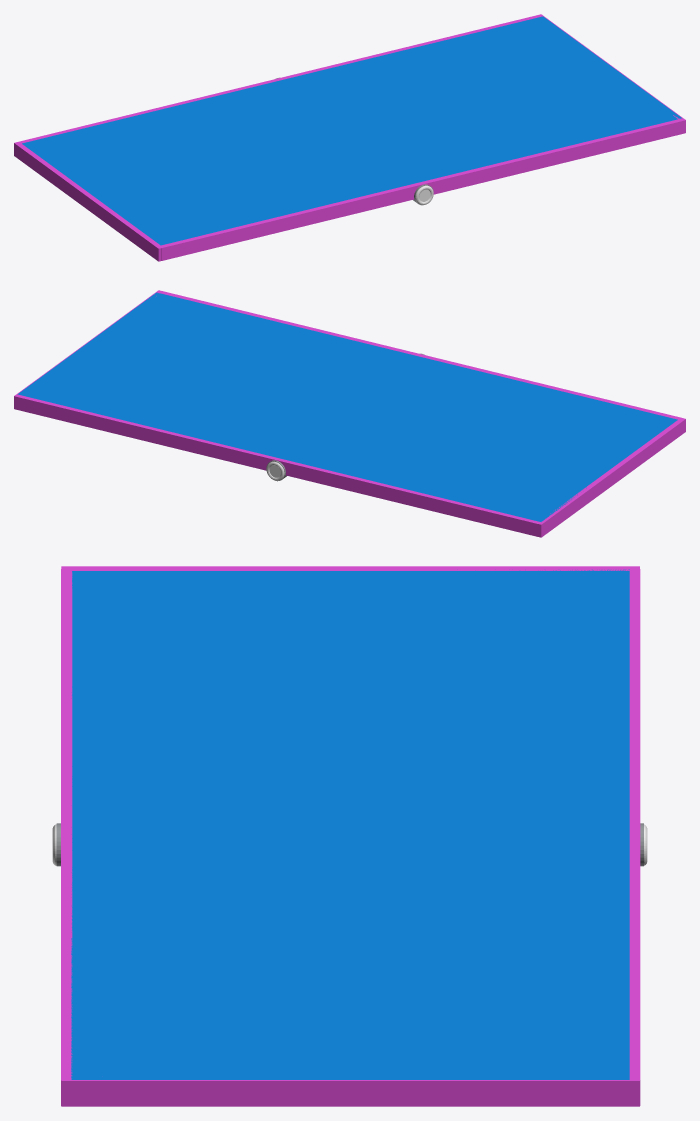
The model's file is swing.fbx.
3 renders of one model, top to bottom at view 1: azimuth 30°, elevation 25°; view 2: azimuth 150°, elevation 25°; view 3: azimuth 270°, elevation 25°, orthographic. The views are drawn at different scales.
Visible parts, largest first — view 1: Cube, Cube.001, Cube.004, Cube.002; view 2: Cube, Cube.002, Cube.004, Cube.001; view 3: Cube, Cube.003, Cube.002, Cube.001, Cube.004.
Boxes of the visible parts, x1=… form: Cube: x1=22, y1=16, x2=681, y2=245; Cube.001: x1=161, y1=118, x2=685, y2=260; Cube.004: x1=14, y1=141, x2=163, y2=261; Cube.002: x1=19, y1=14, x2=542, y2=143; Cube: x1=17, y1=292, x2=677, y2=521; Cube.002: x1=14, y1=394, x2=538, y2=536; Cube.004: x1=536, y1=417, x2=685, y2=537; Cube.001: x1=157, y1=290, x2=680, y2=419; Cube: x1=71, y1=569, x2=629, y2=1079; Cube.003: x1=61, y1=1080, x2=639, y2=1106; Cube.002: x1=629, y1=569, x2=640, y2=1105; Cube.001: x1=61, y1=569, x2=72, y2=1105; Cube.004: x1=61, y1=566, x2=639, y2=570.
Bounding box in the file's own units: 3375 × 122 × 1647.
